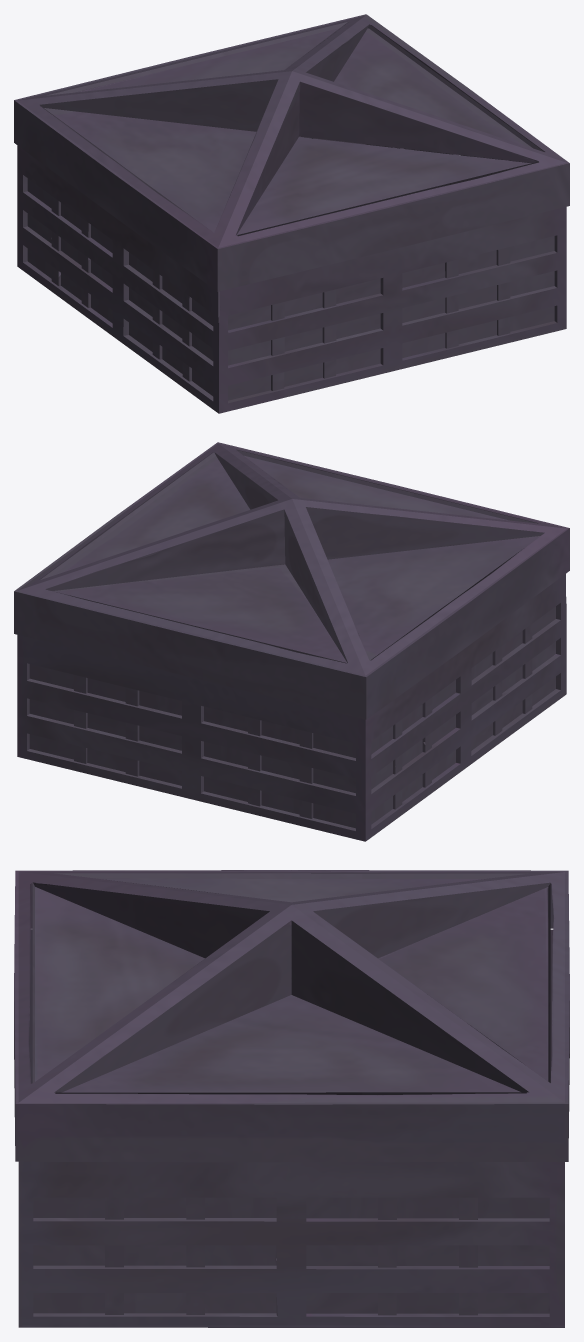
Rendered from FruitStand.fbx.
3 views of the same model, one above another, from view 1: azimuth 30°, elevation 25°; view 2: azimuth 150°, elevation 25°; view 3: azimuth 270°, elevation 25° (orthographic). The views are drawn at different scales.
Parts seen in each view (by area): view 1: FruitStand_high; view 2: FruitStand_high; view 3: FruitStand_high.
Part boxes in pixels (bbox=[...]): FruitStand_high: bbox=[14, 14, 569, 413]; FruitStand_high: bbox=[14, 442, 569, 841]; FruitStand_high: bbox=[14, 870, 569, 1327].
Bounding box in the file's own units: 2269 × 2265 × 1385.
